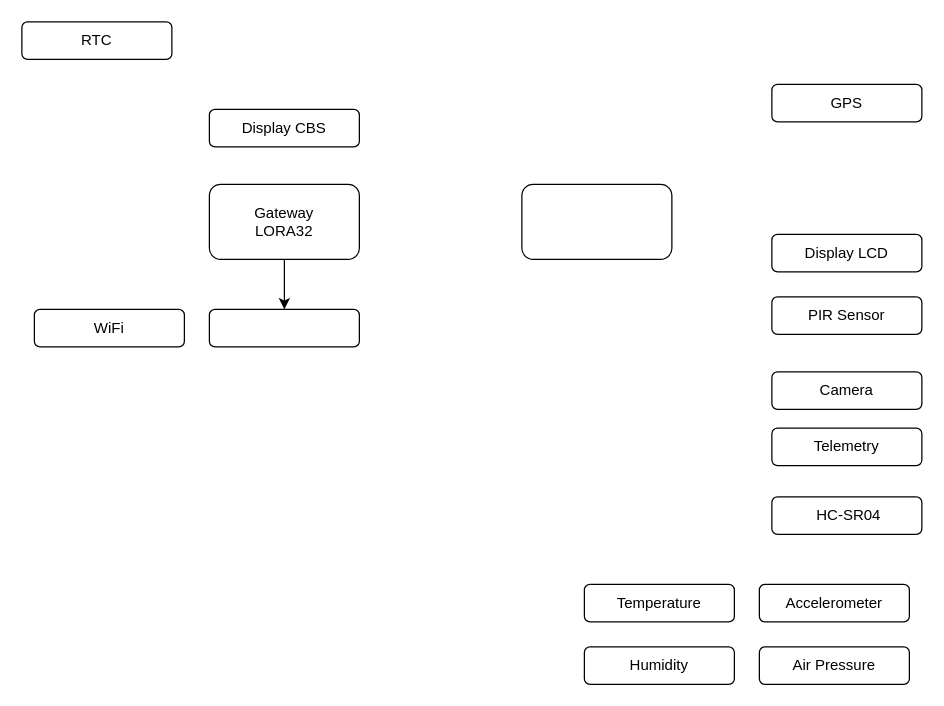
The diagram is 944 pixels wide and 706 high, and some of its shapes have lost their labels. Here are the shapes that lost their labels. From the top down, the box of each, then its label:
(521, 183, 672, 259): Robô T-Beam
(208, 308, 359, 347): Ethernet PHY
